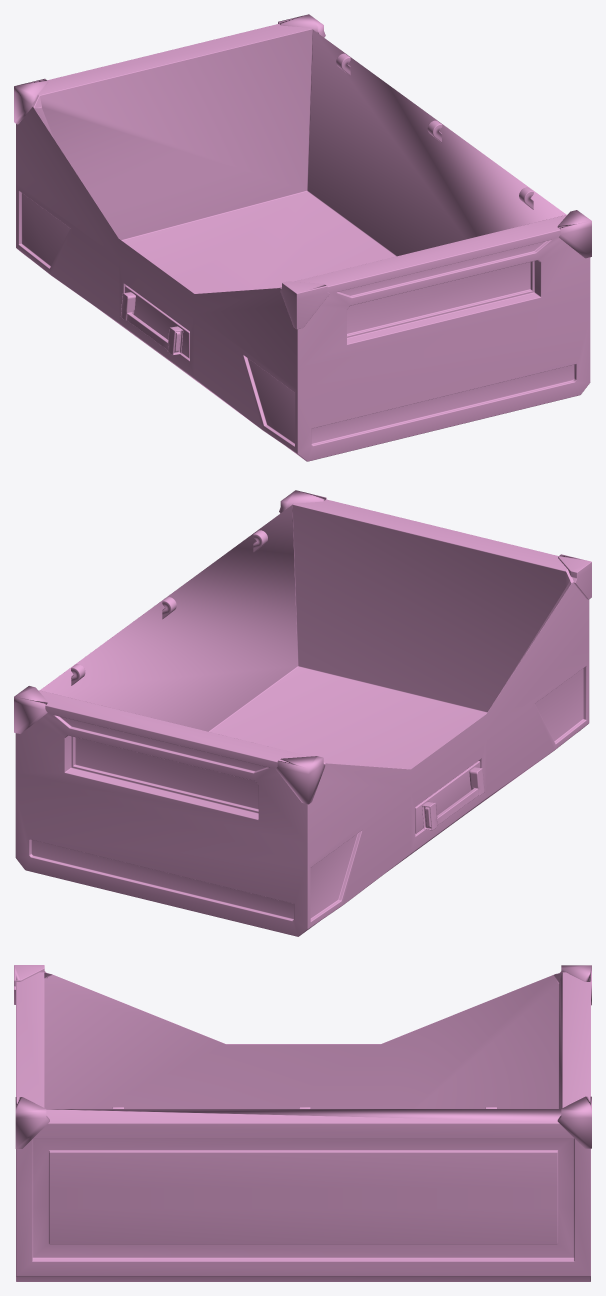
3 renders of one model, top to bottom at view 1: azimuth 30°, elevation 25°; view 2: azimuth 150°, elevation 25°; view 3: azimuth 270°, elevation 25°, orthographic. The views are drawn at different scales.
Visible parts, largest first — view 1: Box_Lp001; view 2: Box_Lp001; view 3: Box_Lp001.
Part boxes in pixels (<box>): Box_Lp001: <box>14,14,591,461</box>; Box_Lp001: <box>14,490,591,936</box>; Box_Lp001: <box>14,965,591,1281</box>.
Size of the model in its own units: 37.38 by 20.17 by 60.3.
